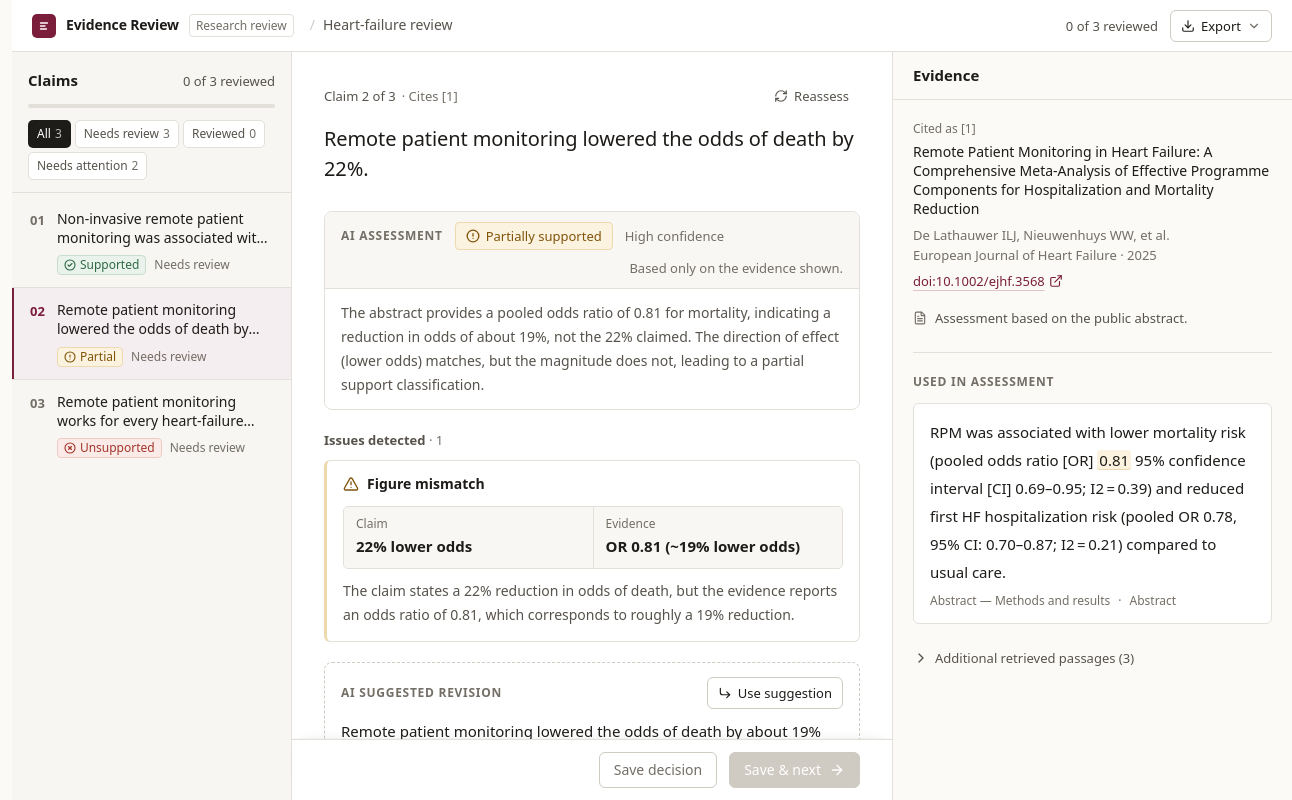
Scenario: Review workspace — reassessment and failures › reassesses a claim and keeps the human review
Expected: the heading "Claim 2 of 3" is shown, x1=324 y1=86 x2=396 y2=106
Click the button "Reassess" at point(812, 96), box x1=763 y1=80 x2=860 y2=112
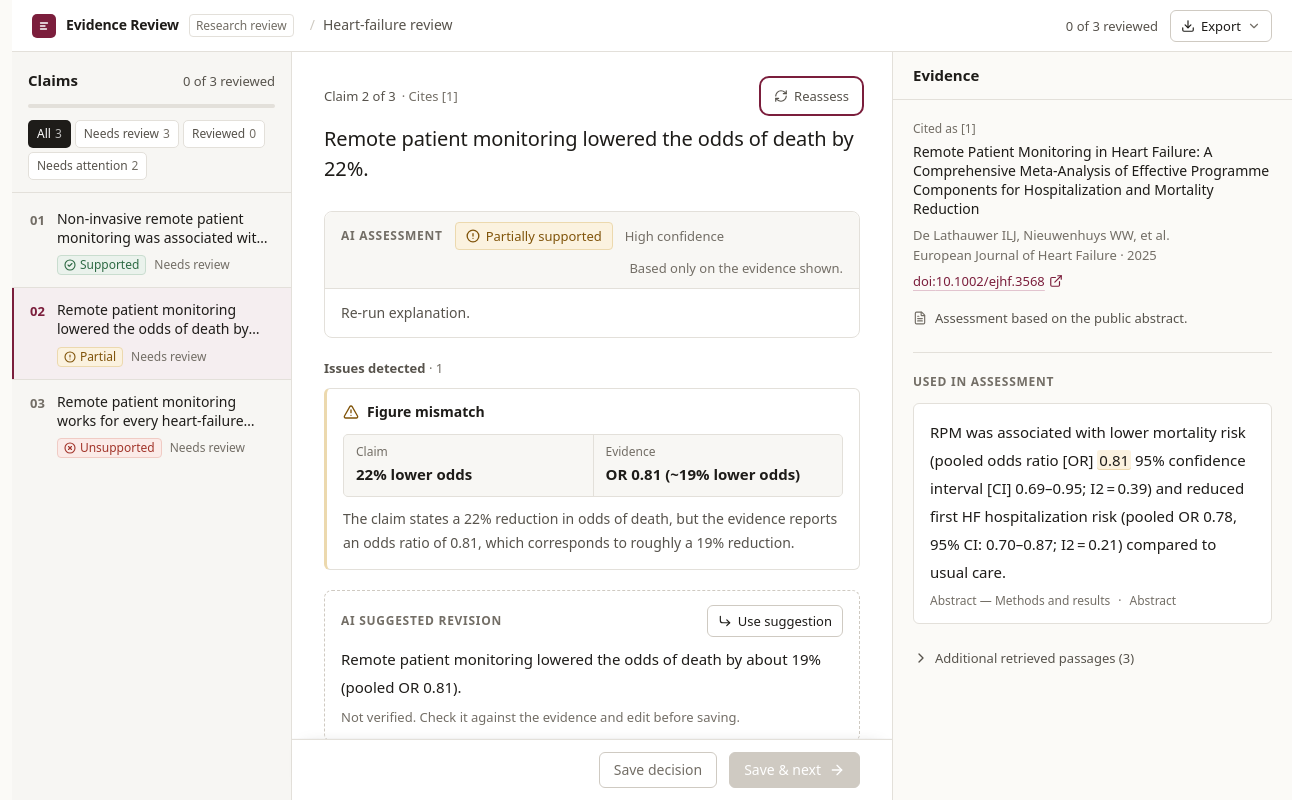
Now the text "Re-run explanation." is shown, box x1=341 y1=303 x2=470 y2=322
